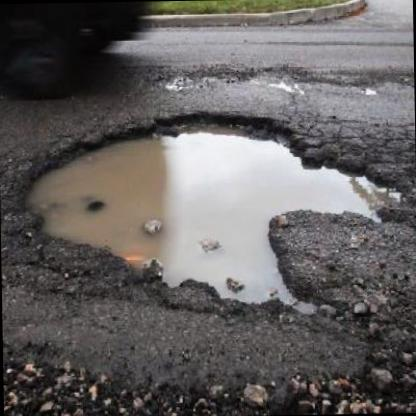pothole: (16, 100, 412, 324)
